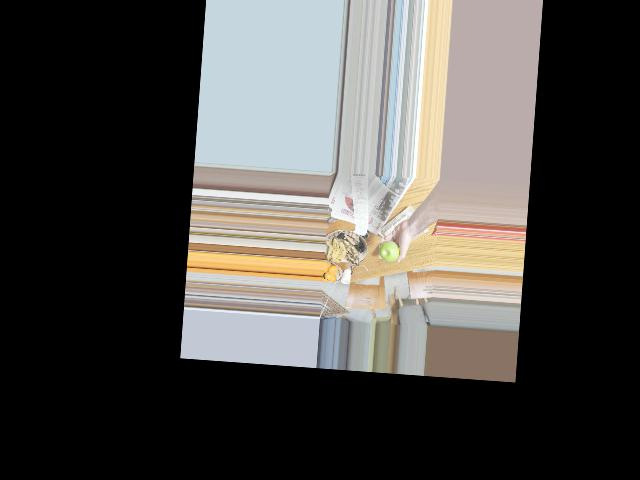apple: (376, 237, 402, 266)
